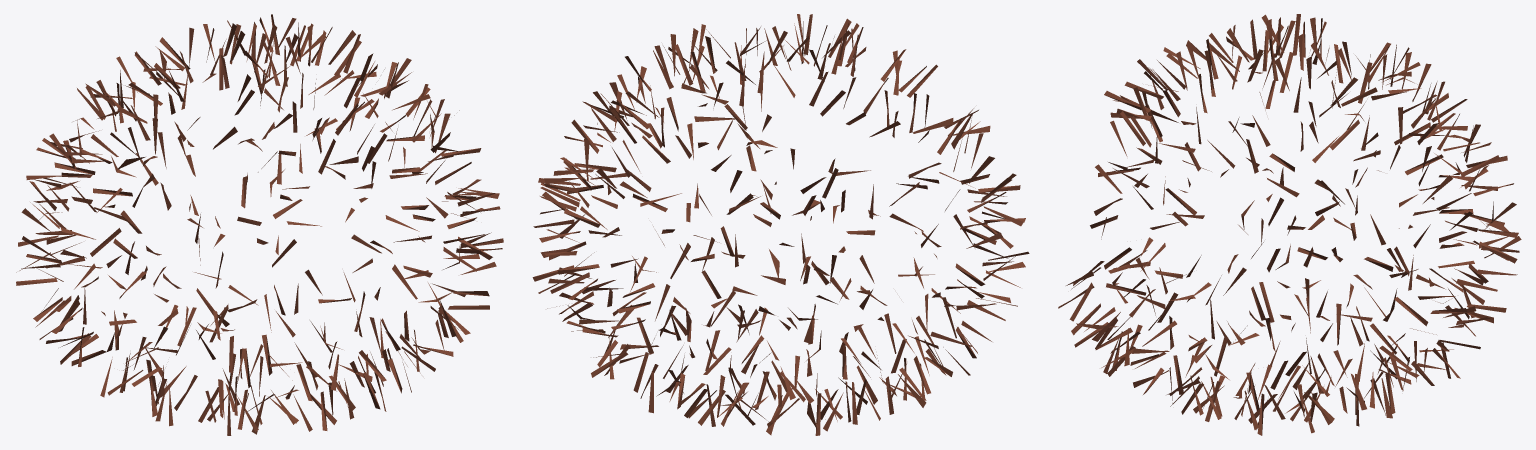
File: Winter_Lv1.glb
The picture shows the model from 3 angles, left to right: view 1: azimuth 30°, elevation 25°; view 2: azimuth 150°, elevation 25°; view 3: azimuth 270°, elevation 25°; orthographic projection.
Parts seen in each view (by area): view 1: Winter_Lv1; view 2: Winter_Lv1; view 3: Winter_Lv1.
Part boxes in pixels (left/top/right/bottom): Winter_Lv1: left=16, top=14, right=503, bottom=435; Winter_Lv1: left=532, top=14, right=1029, bottom=435; Winter_Lv1: left=1058, top=14, right=1521, bottom=435.
Bounding box in the file's own units: 1.28 × 1.01 × 1.2.
Materials: 1 (1 with a texture image).
